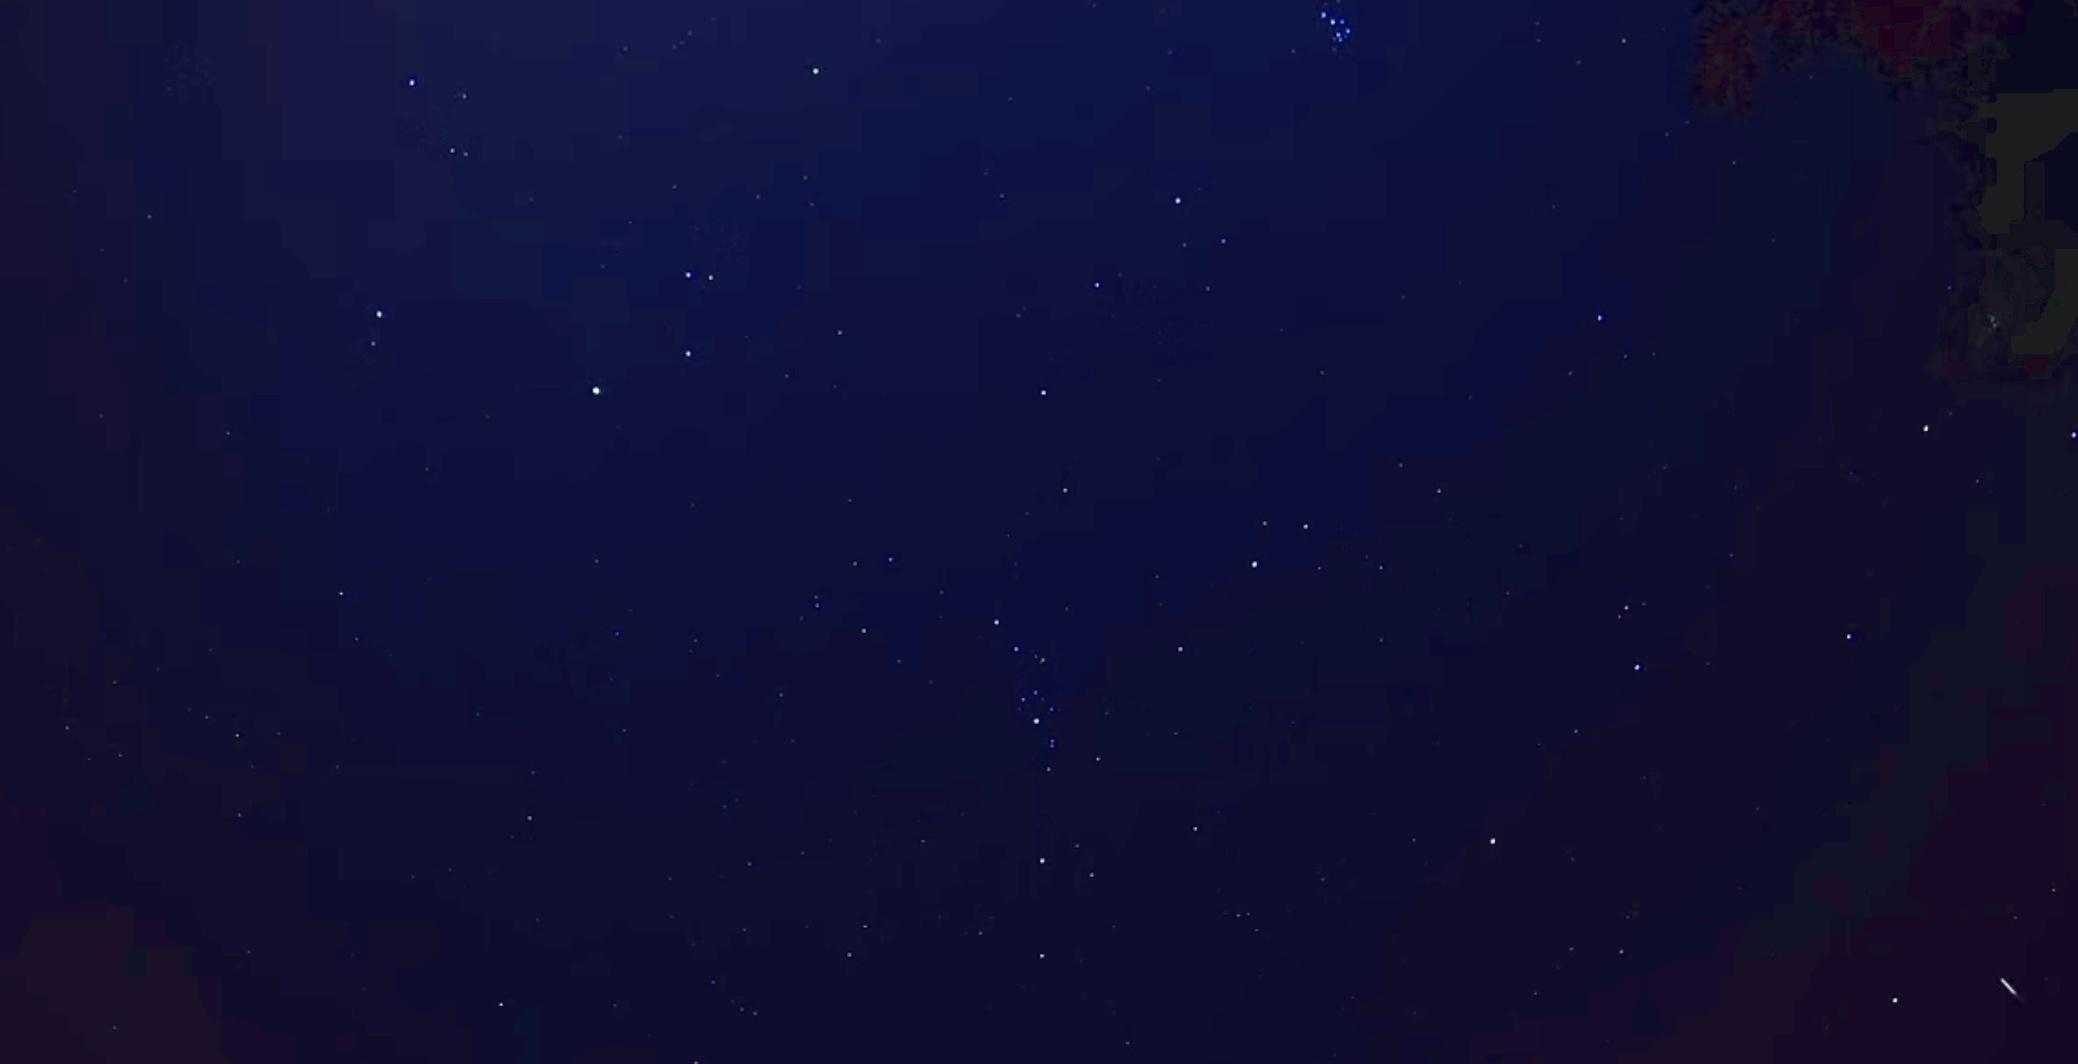meteorite: (1961, 965, 2054, 1012)
